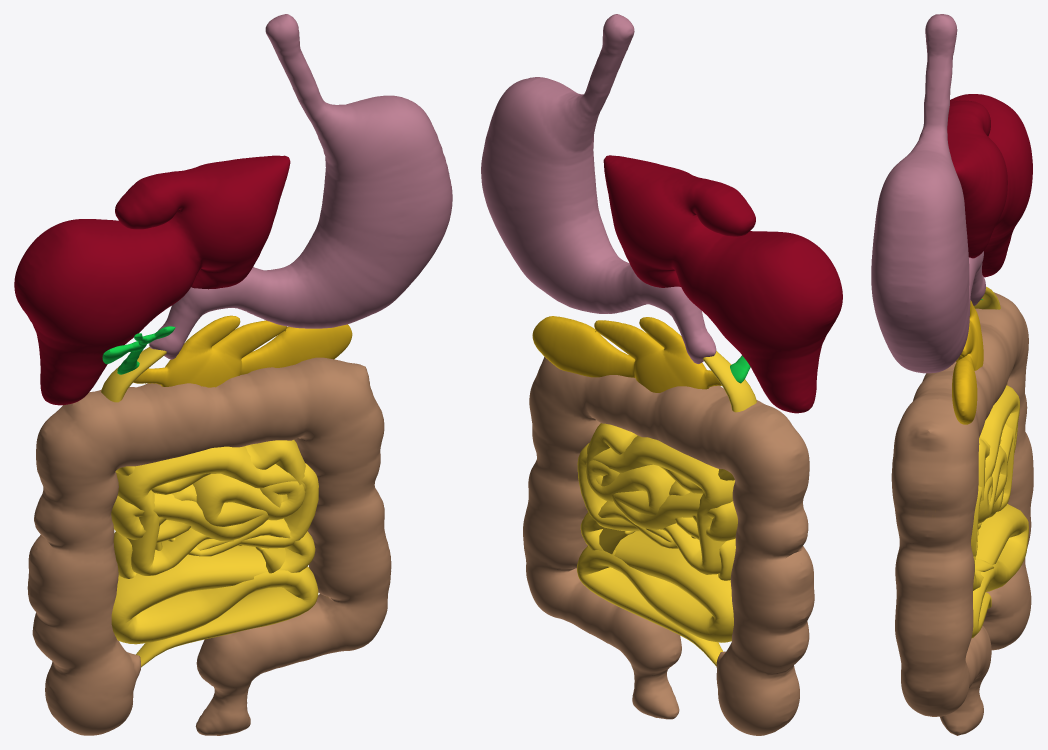
3 renders of one model, left to right at view 1: azimuth 30°, elevation 25°; view 2: azimuth 150°, elevation 25°; view 3: azimuth 270°, elevation 25°, orthographic. The views are drawn at different scales.
Visible parts, largest first — view 1: node_id80_11, node_id64_9, Object_5, node_id109_10, Object_9, Object_7; view 2: node_id80_11, Object_5, node_id109_10, node_id64_9, Object_9; view 3: node_id80_11, node_id109_10, Object_5, node_id64_9, Object_9.
Part boxes in pixels (left/top/right/bottom): node_id80_11: left=27, top=357, right=391, bottom=735; node_id64_9: left=101, top=347, right=318, bottom=667; Object_5: left=14, top=155, right=290, bottom=405; node_id109_10: left=149, top=14, right=452, bottom=359; Object_9: left=133, top=315, right=352, bottom=387; Object_7: left=102, top=326, right=175, bottom=374; node_id80_11: left=523, top=357, right=814, bottom=735; Object_5: left=603, top=155, right=842, bottom=413; node_id109_10: left=481, top=14, right=716, bottom=363; node_id64_9: left=577, top=351, right=756, bottom=666; Object_9: left=532, top=316, right=721, bottom=392; node_id80_11: left=891, top=292, right=1033, bottom=735; node_id109_10: left=871, top=14, right=985, bottom=373; Object_5: left=919, top=94, right=1032, bottom=277; node_id64_9: left=971, top=286, right=1028, bottom=638; Object_9: left=952, top=300, right=983, bottom=424.
Bounding box in the file's own units: 0.3708 × 0.6379 × 0.1271.
Materials: 9 (9 with a texture image).
